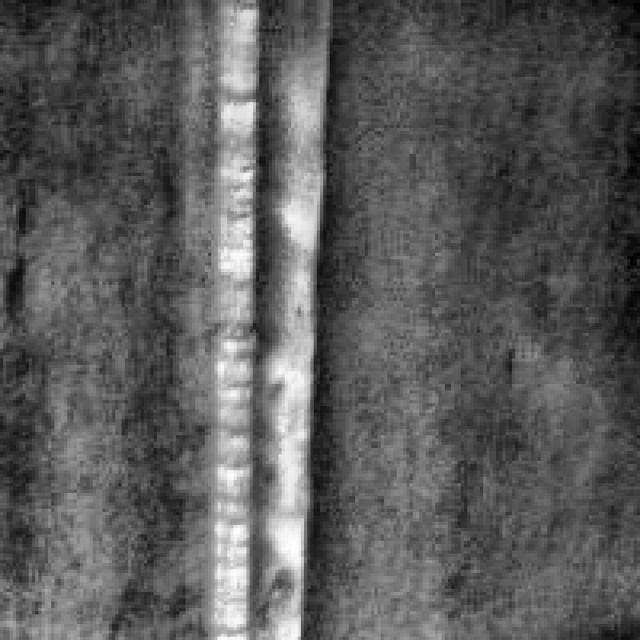Inclusion: (195, 0, 339, 634)
